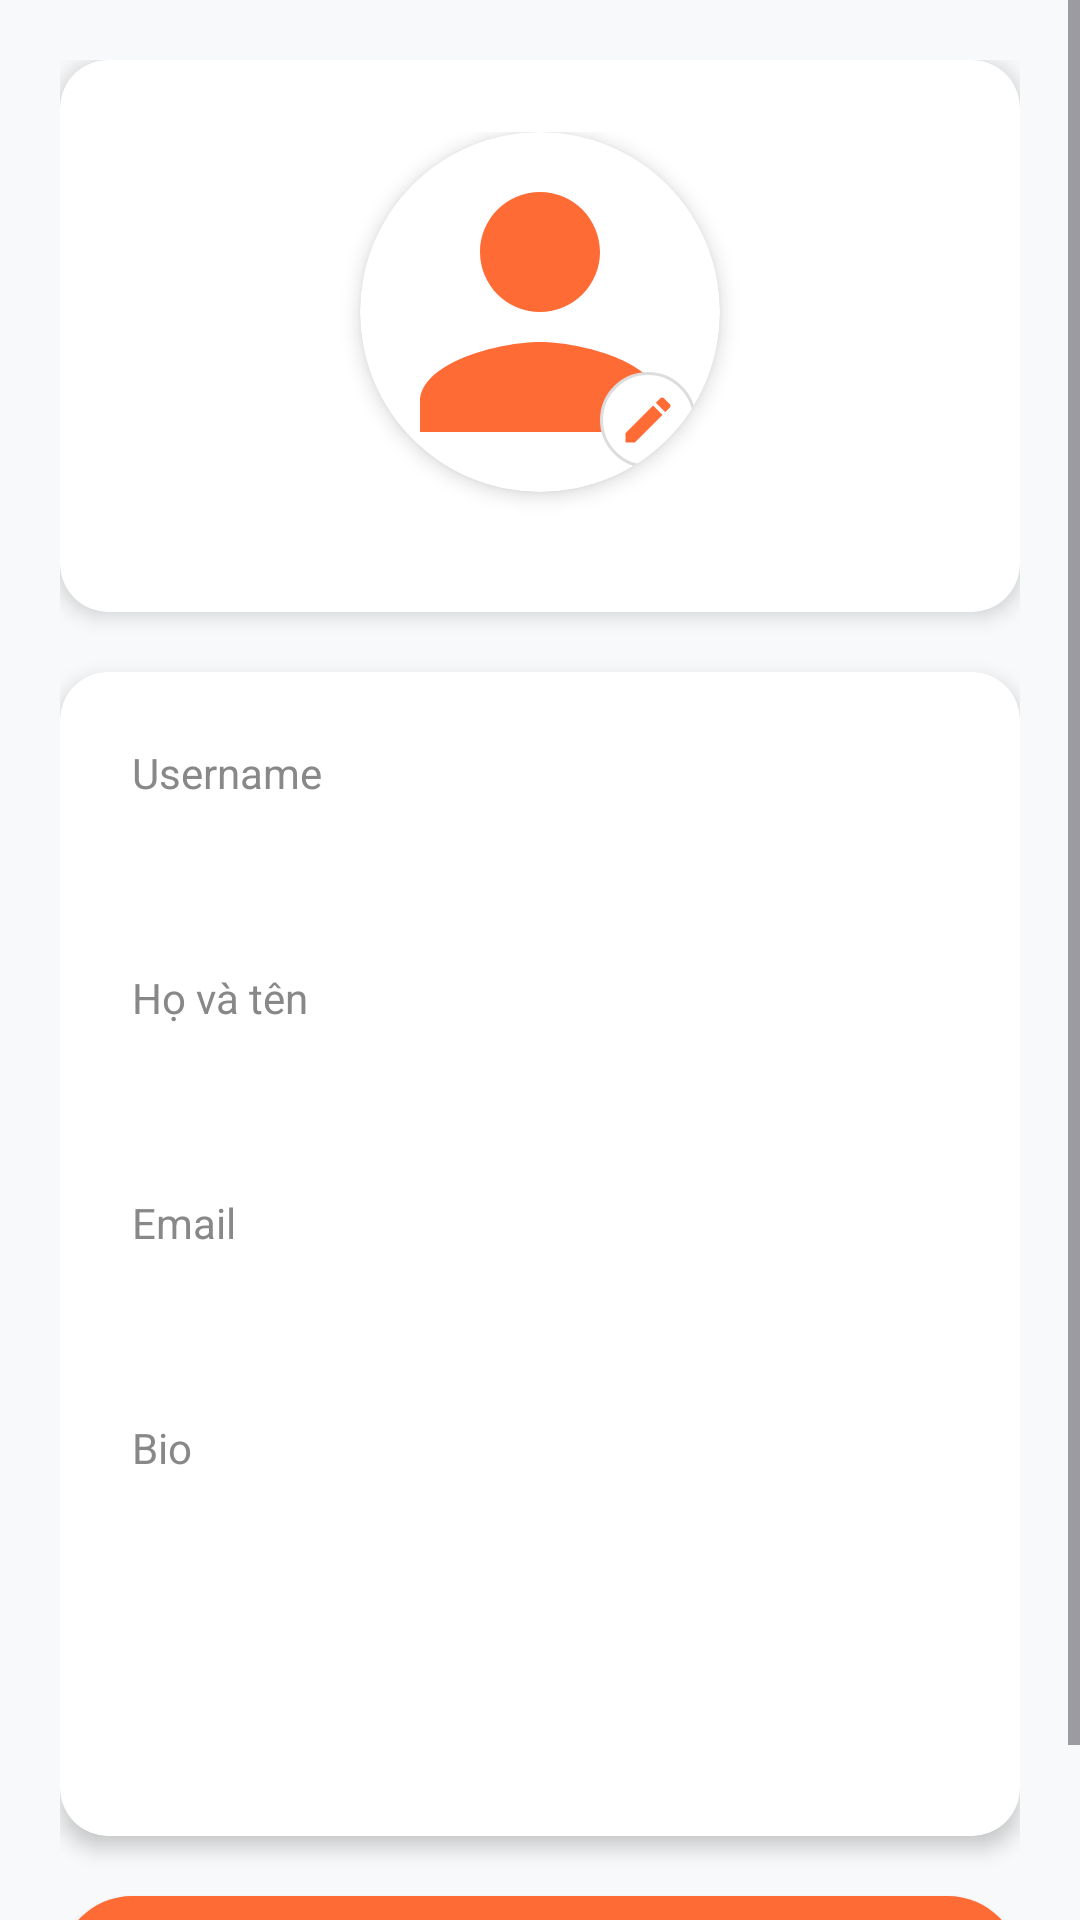

Where to tap for icons on this 1080 × 1920 app screen, as (x,y):
edit: (648,420)
